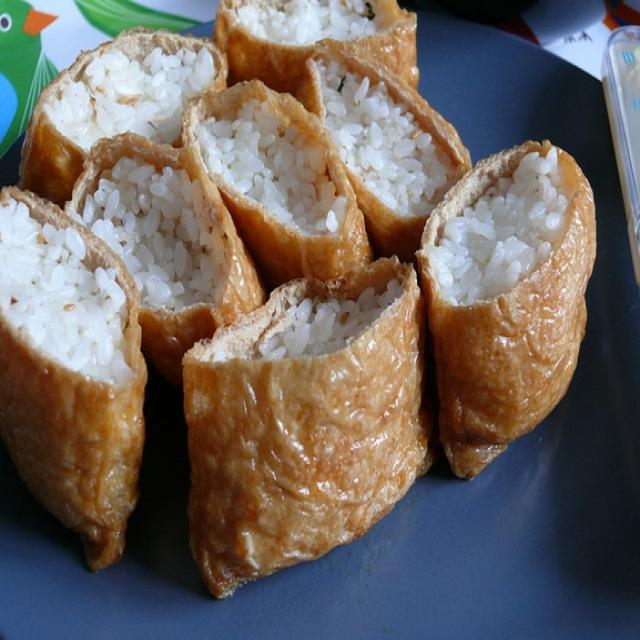寿司卷物: (8, 4, 623, 612)
